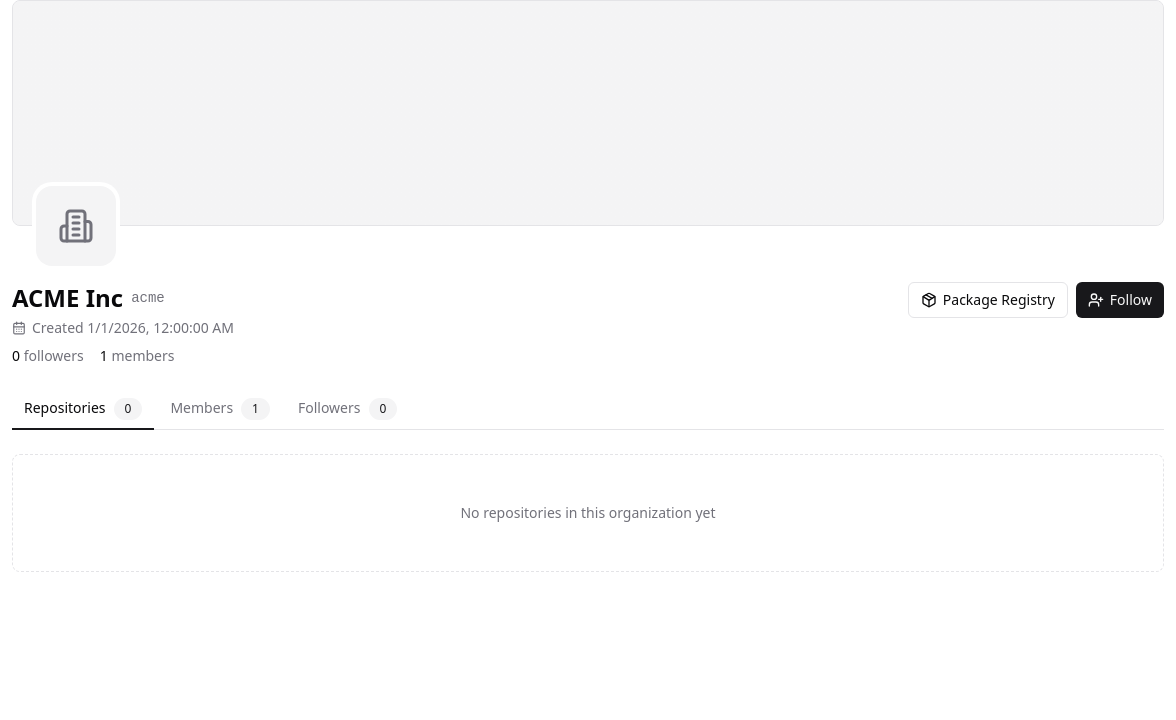
OrgPage › lists followers in the followers tab
expect the heading "ACME Inc" is shown: met, box [12,282,123,314]
Click the button "Followers 0" at (348,410), box [286,390,409,430]
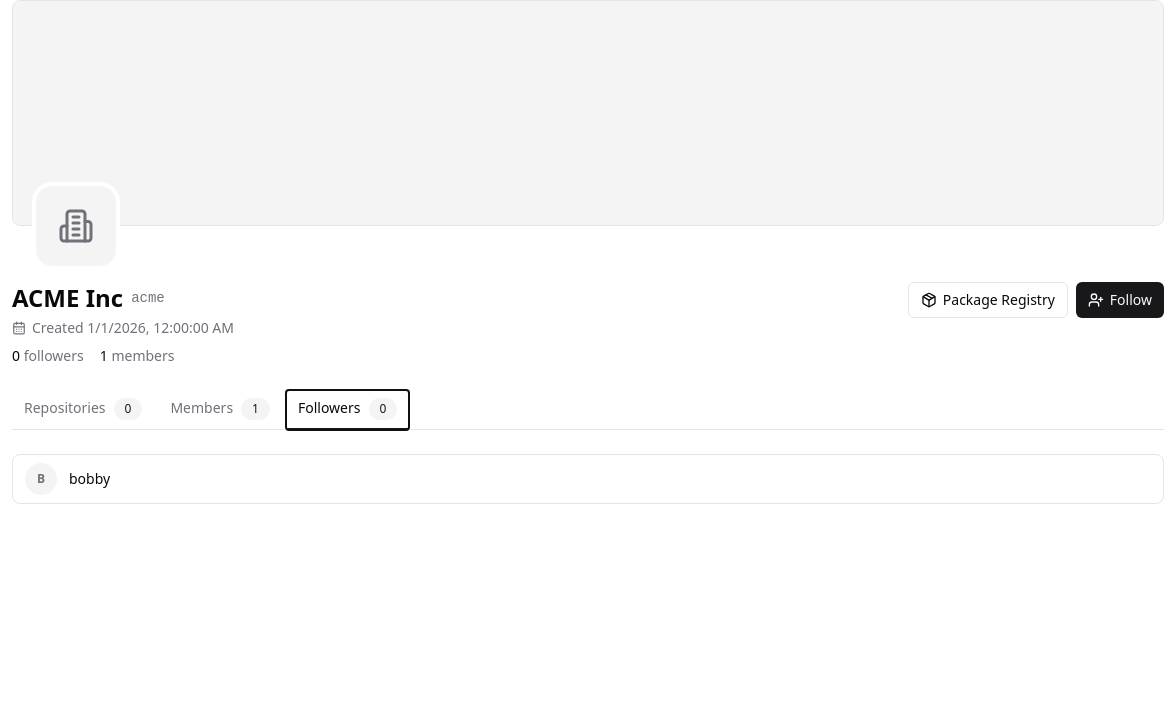
expect the text "bobby" is shown: met, box [69,469,110,489]
